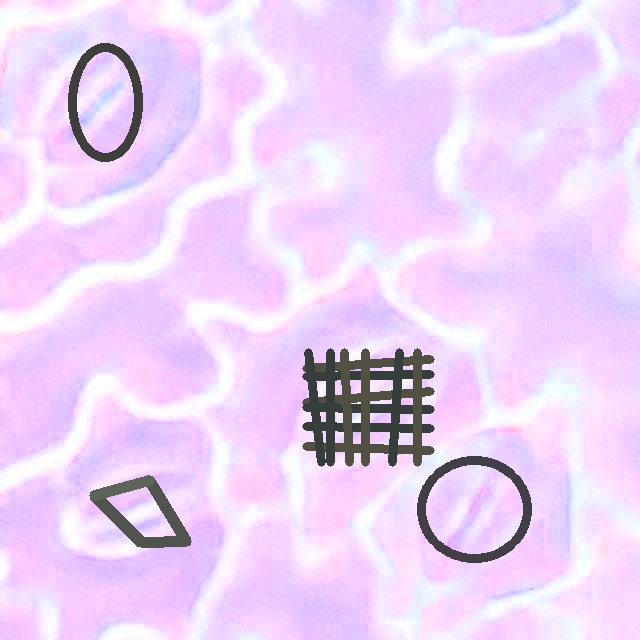open: (302, 348, 433, 466), (417, 454, 532, 563), (67, 43, 144, 162), (90, 476, 191, 546)
